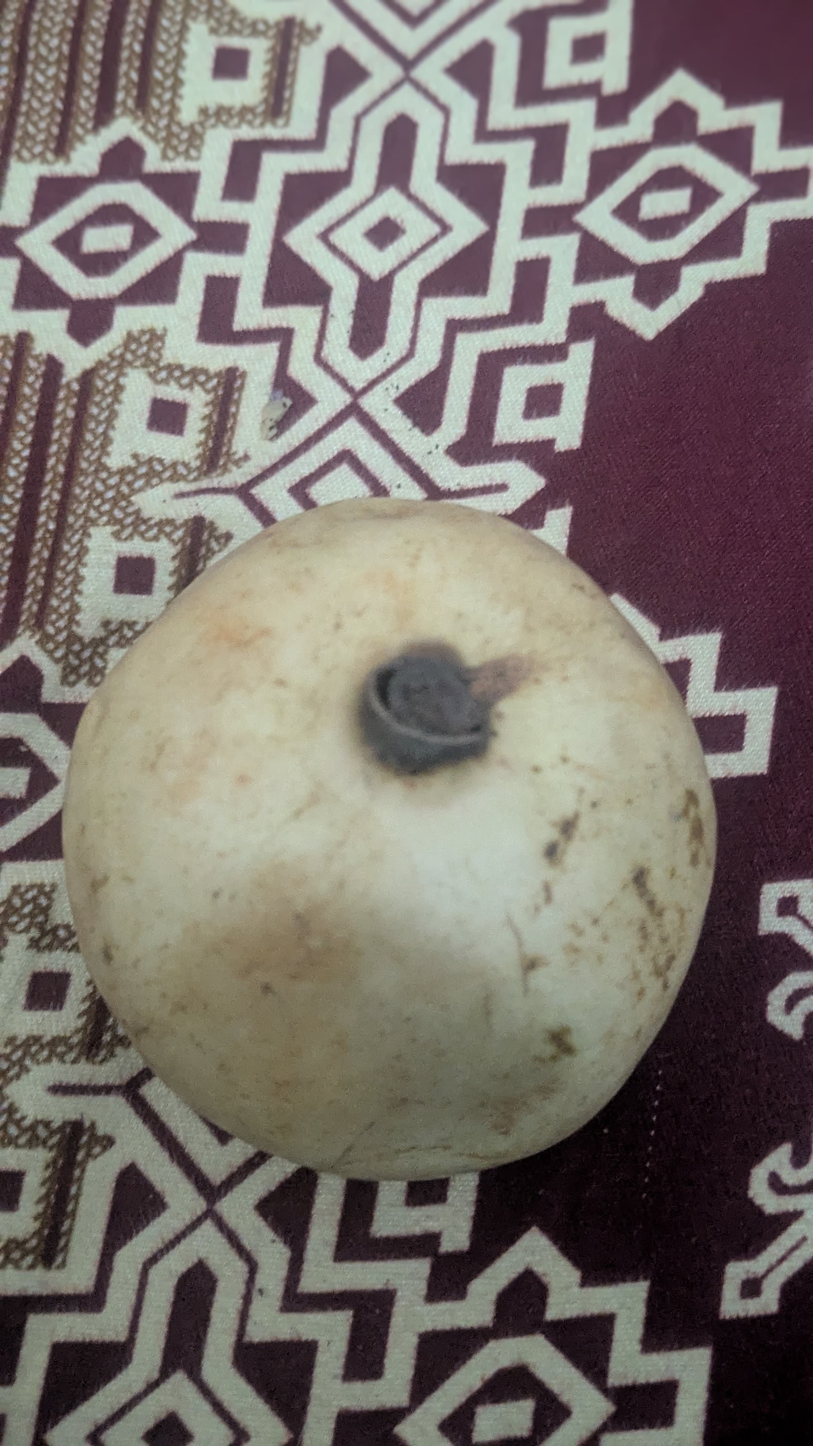guava: (67, 151, 677, 1174)
